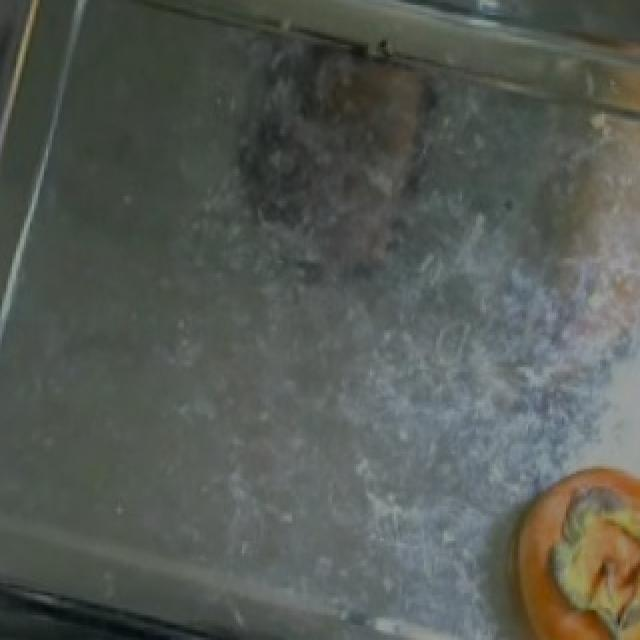Fruit: (484, 449, 640, 638)
